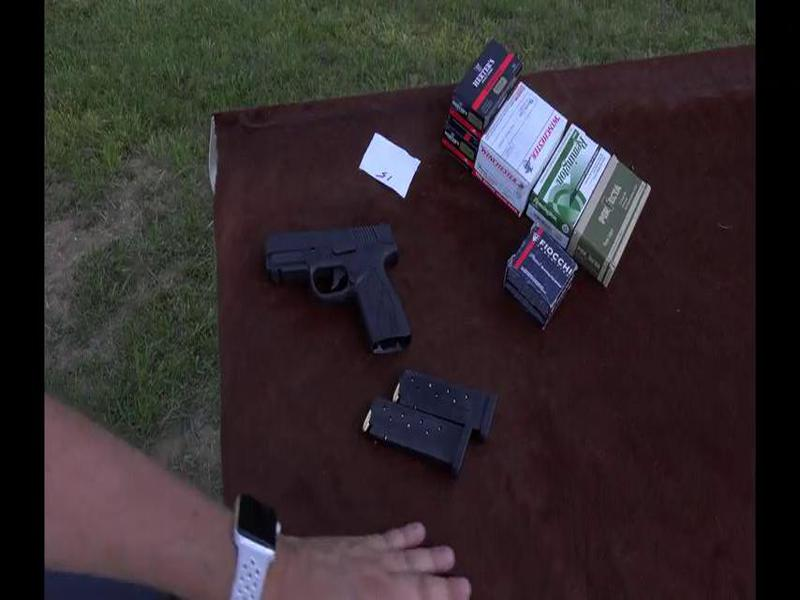Pistola: (249, 220, 450, 363)
